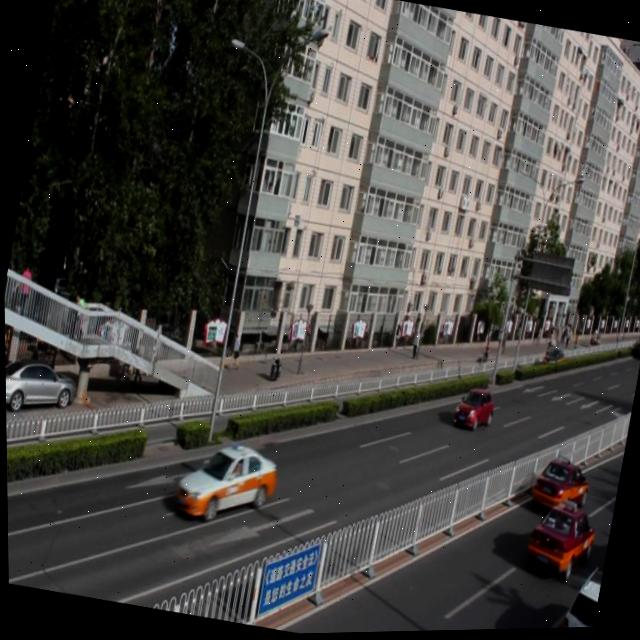car: (168, 431, 279, 533), (519, 499, 596, 582), (527, 454, 591, 522), (550, 562, 602, 631), (451, 384, 495, 435)
van: (524, 607, 593, 631)
